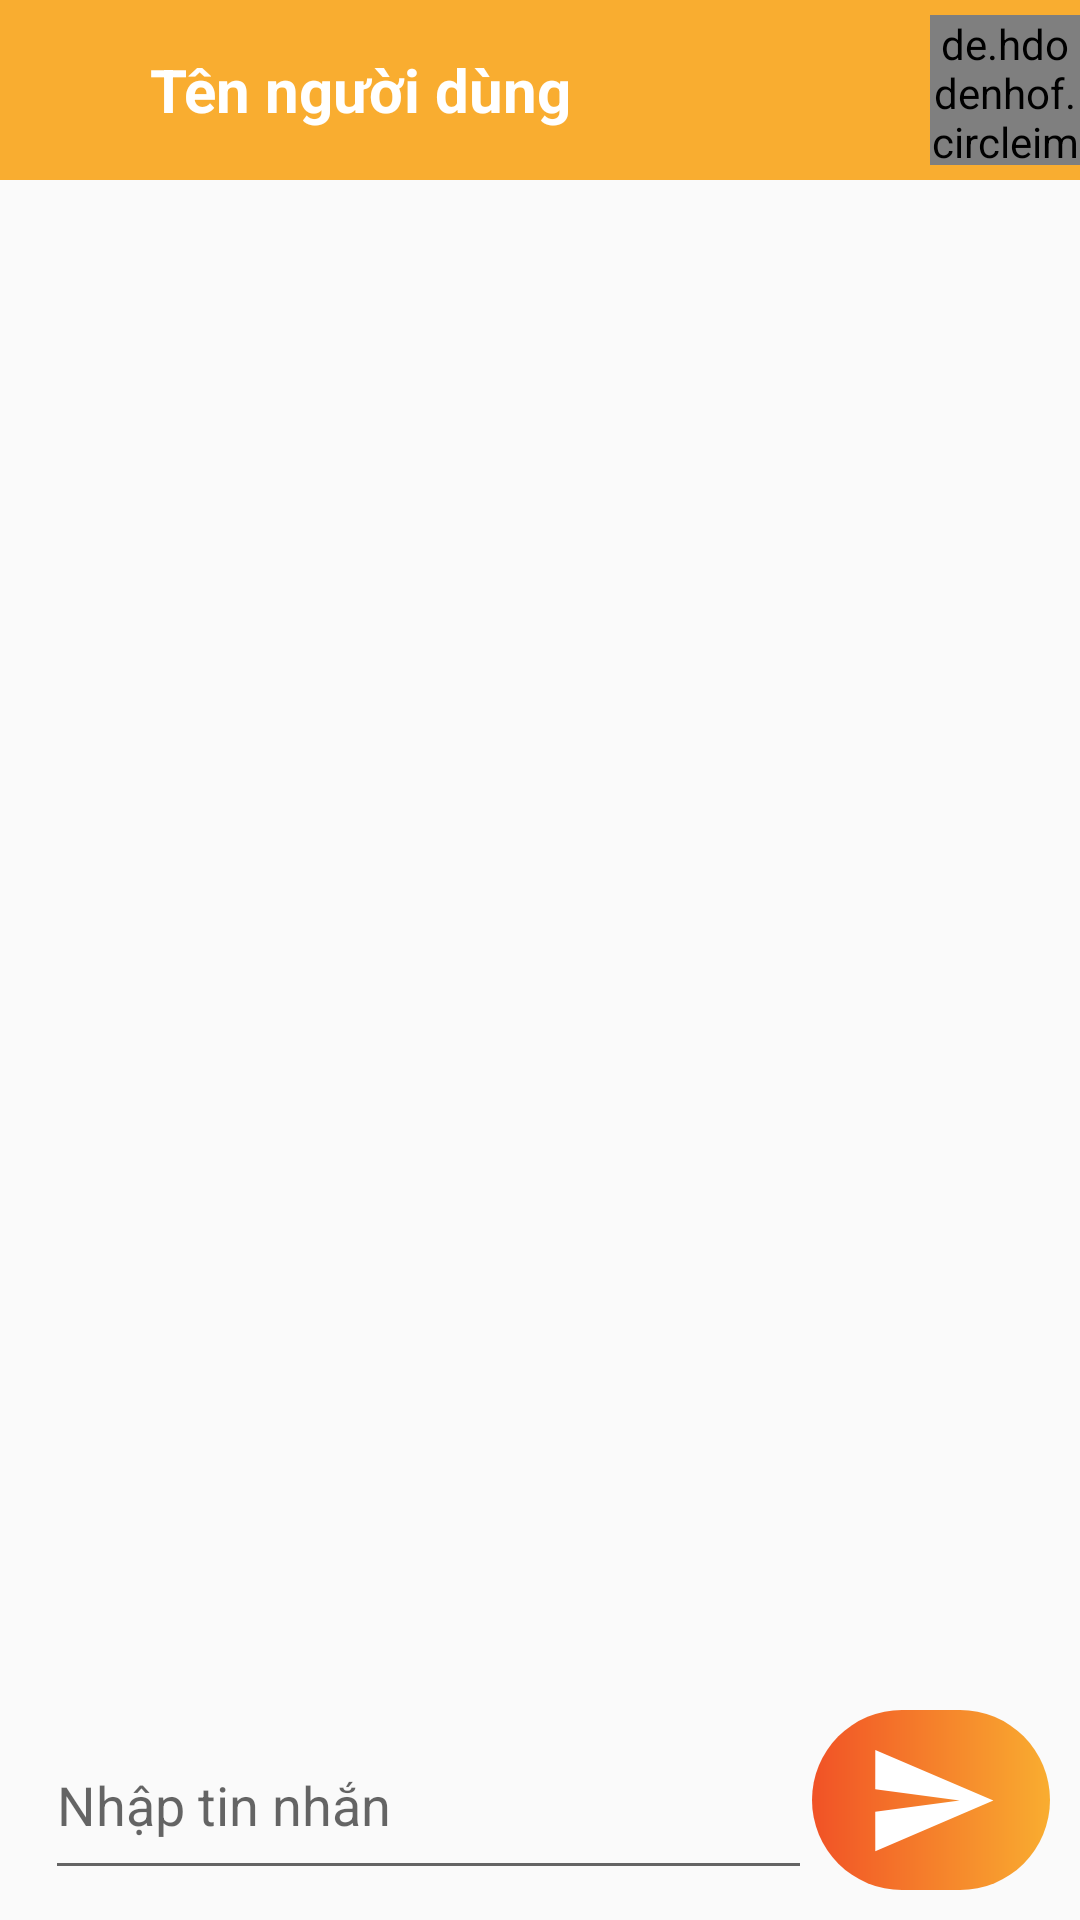

Named icons in this screenshot (1080px×1920px) and their bounding boxes, rect(x1, y1, x2, y2):
send: rect(812, 1710, 1050, 1890)
